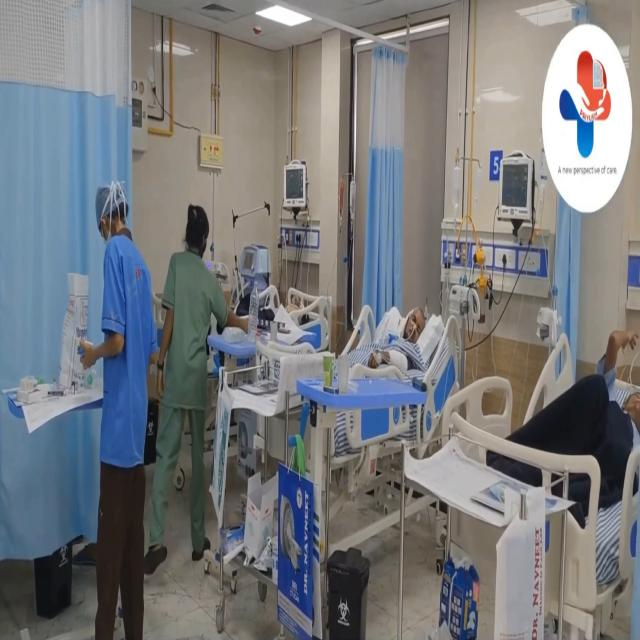Movement-NO: (368, 299, 443, 382)
Movement-Yes: (562, 281, 640, 492)
